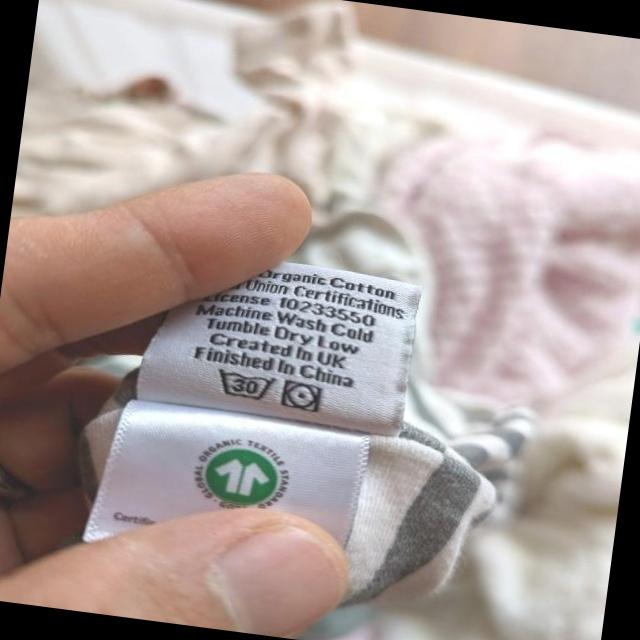30C: (210, 364, 279, 406)
tumble_dry_low: (278, 377, 326, 417)
